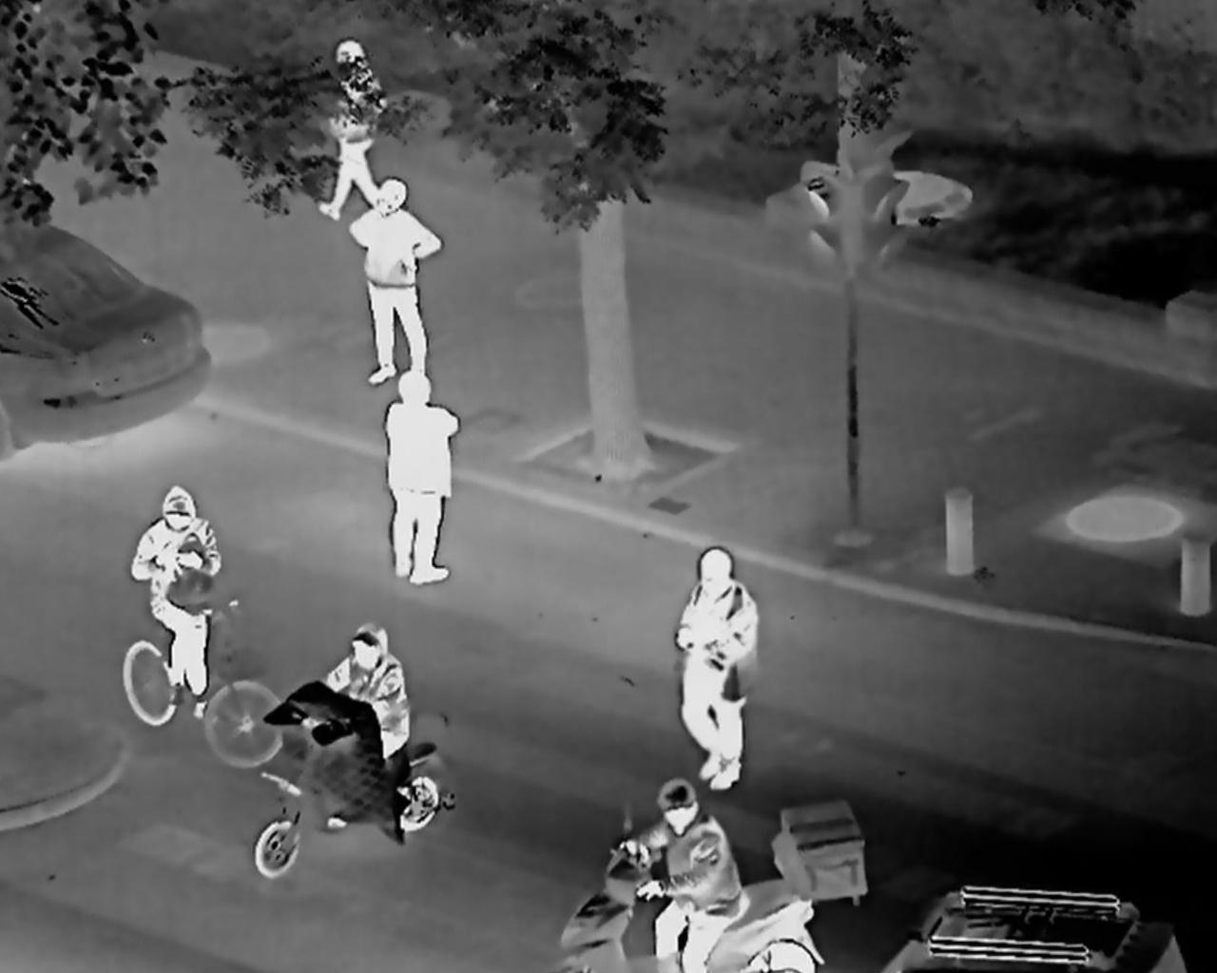person: (670, 526, 763, 789), (632, 774, 749, 973), (129, 486, 227, 691), (330, 606, 420, 768), (375, 174, 442, 385), (388, 387, 454, 592), (330, 48, 376, 207)
